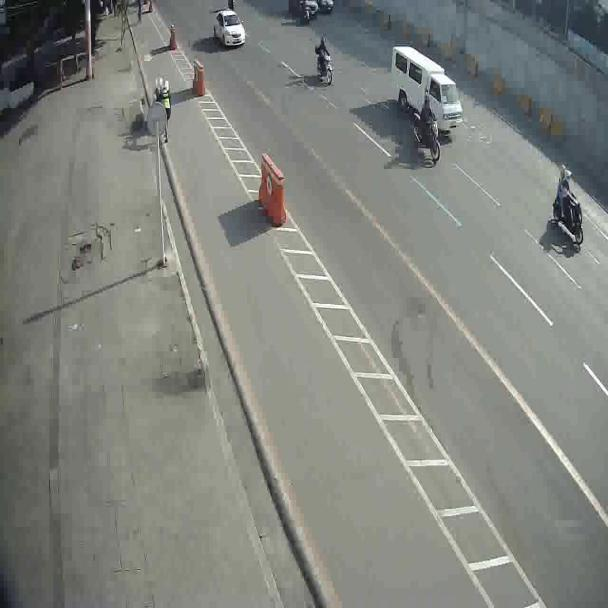motorcyclist: (552, 162, 587, 252), (410, 90, 442, 165), (313, 36, 333, 88)
vehicle: (392, 41, 467, 147), (214, 5, 248, 49)
